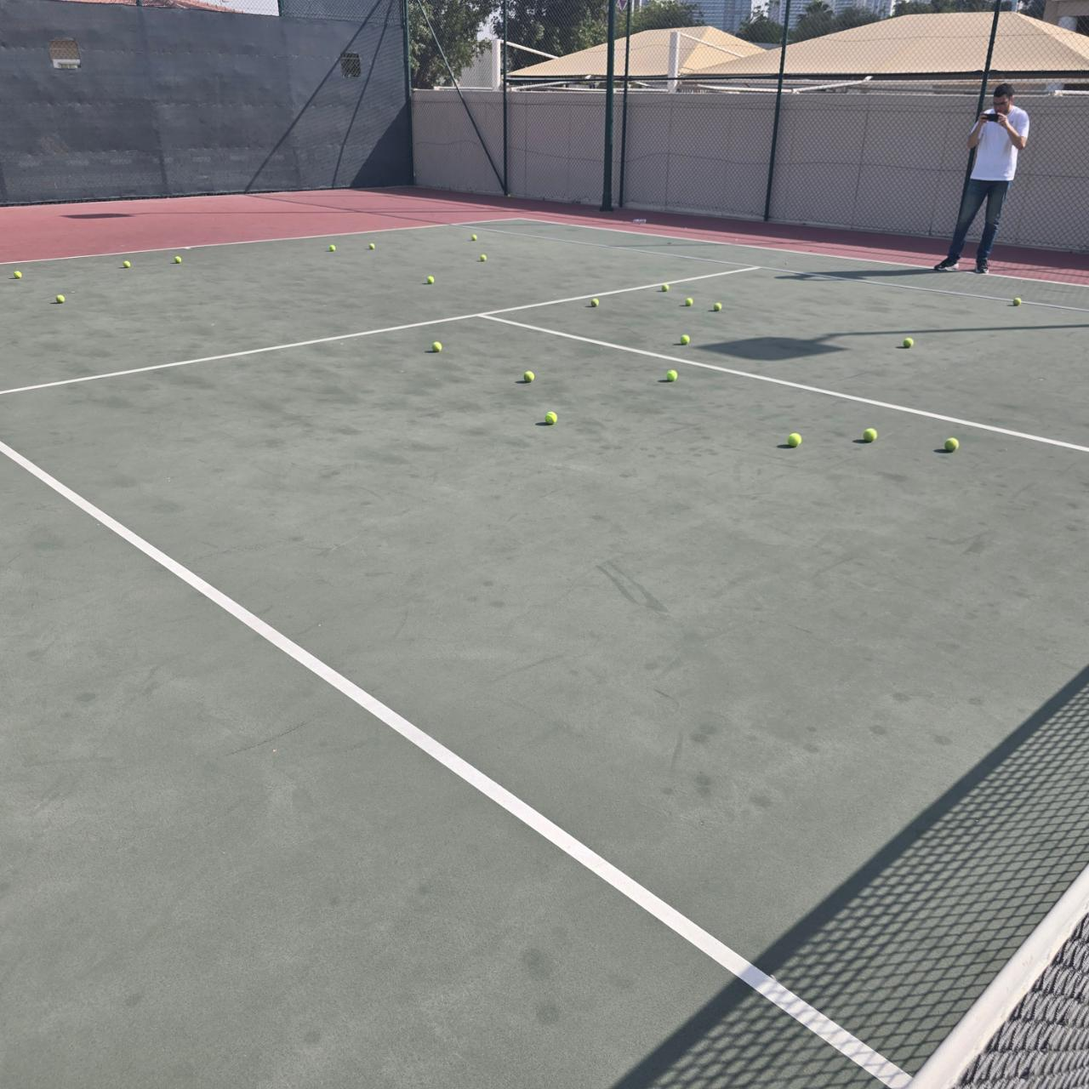tennis-ball: (943, 435, 959, 452), (861, 425, 876, 442), (786, 430, 801, 447), (544, 410, 558, 425), (522, 368, 534, 382), (678, 332, 690, 345), (902, 337, 915, 349), (430, 339, 442, 351), (667, 370, 678, 381), (55, 294, 66, 304), (712, 302, 722, 312), (590, 297, 599, 308), (1012, 297, 1021, 306), (684, 297, 693, 306), (426, 275, 435, 284), (13, 270, 22, 279), (123, 260, 131, 269), (661, 284, 669, 292), (174, 256, 182, 263), (480, 254, 486, 262), (369, 242, 375, 249), (329, 244, 335, 251), (472, 234, 477, 241)
